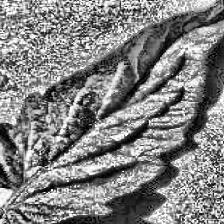leaf mold: (0, 0, 224, 197)
